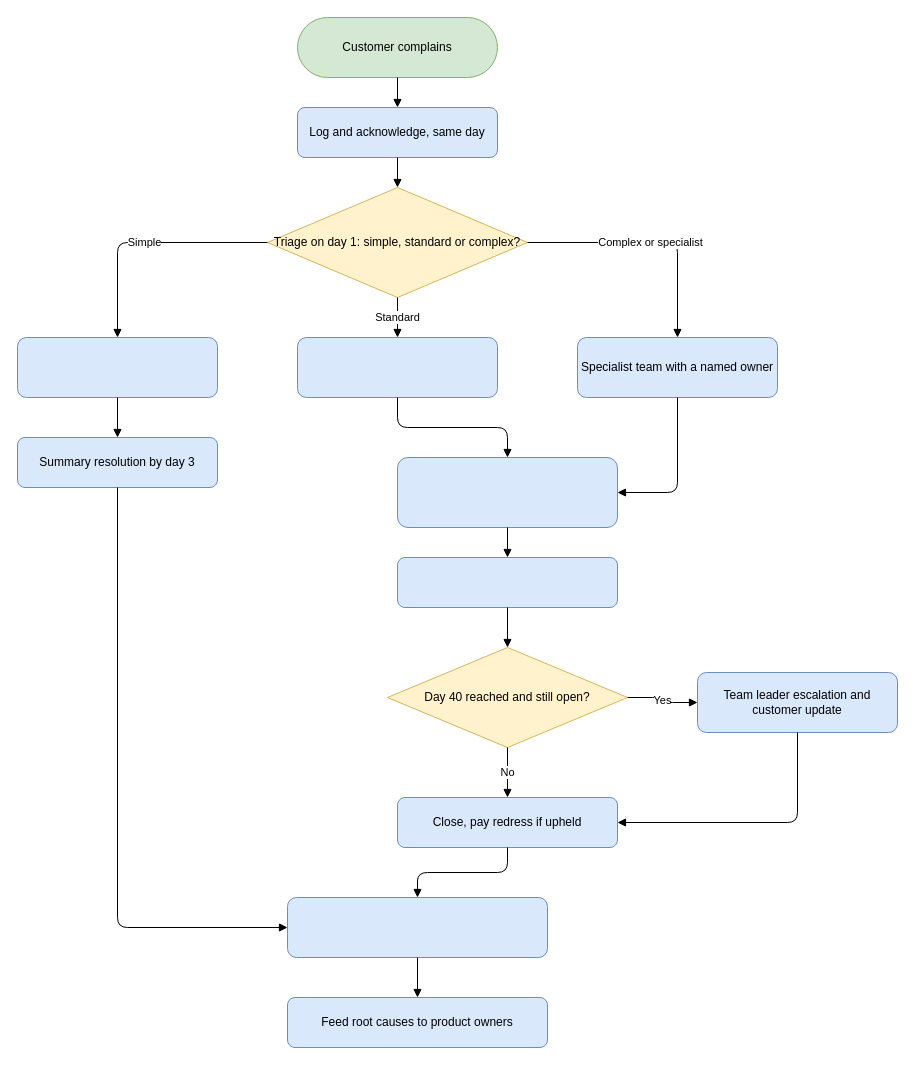
Image size: 915x1065. Some labels were removed from this diagram. The centre of each missing label's shape, as x and y in pixels:
"Decision and final response" goes at point (507, 582).
"Front-line fast fix within delegated limit" goes at point (117, 367).
"Information request to product team (48-hour response standard)" goes at point (507, 492).
"Investigator queue with SLA clock" goes at point (397, 367).
"Weekly MI: closing bands, share upheld, root causes" goes at point (417, 927).
